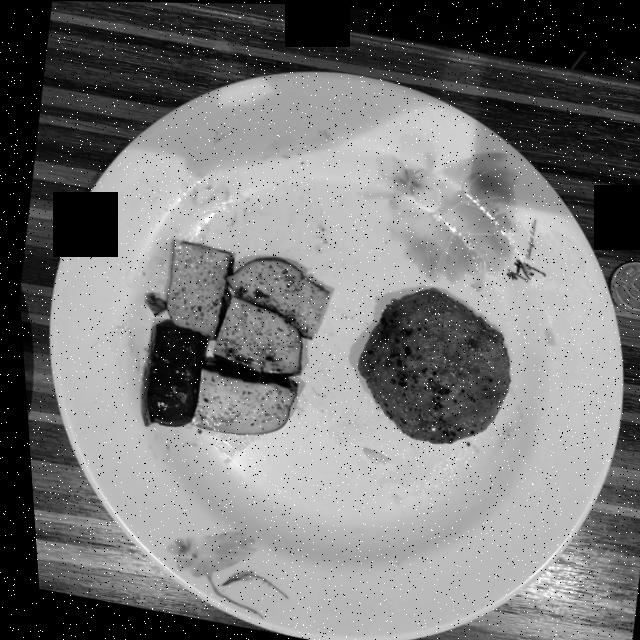coin: (606, 258, 640, 312)
firm tofu: (135, 240, 325, 433)
fish cake: (352, 288, 505, 442)
